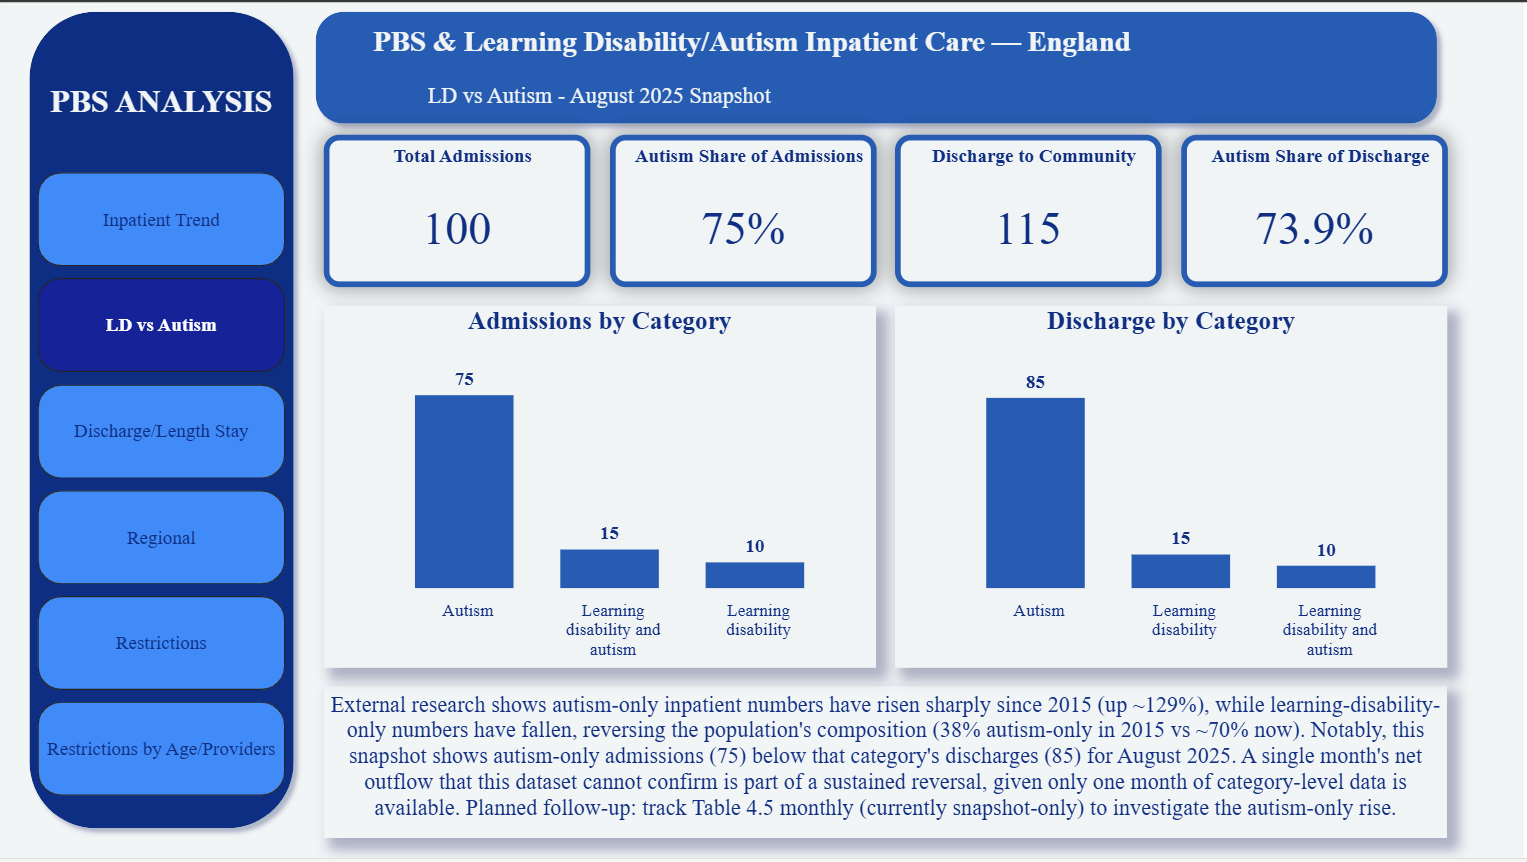

This screenshot's page, from the dashboard's own definition file:
{"tool":"powerbi","page":{"name":"LD vs Autism","canvas":[1280,720],"ordinal":1},"visuals":[{"type":"shape","box":[256,0,960,112],"z":0},{"type":"shape","box":[16,0,240,704],"z":1000},{"type":"textbox","box":[288,16,688,48],"z":2000},{"type":"cardVisual","title":"Total Admissions","fields":{"Data":["_Measures.Total Admissions (Category)"]},"box":[272,112,224,128],"z":3000},{"type":"cardVisual","title":"Autism Share of Admissions","fields":{"Data":["_Measures.Autism Share of Admissions"]},"box":[512,112,224,128],"z":4000},{"type":"cardVisual","title":"Discharge to Community","fields":{"Data":["_Measures.Discharges to Community by Category"]},"box":[752,112,224,128],"z":5000},{"type":"cardVisual","title":"Autism Share of Discharge","fields":{"Data":["_Measures.Autism Share of Community Discharges"]},"box":[992,112,224,128],"z":6000},{"type":"textbox","box":[304,64,400,32],"z":7000},{"type":"clusteredColumnChart","title":"Admissions by Category","fields":{"Category":["Fact_Category_Snapshot.Category"],"Y":["_Measures.Admissions by Category (Chart)"]},"box":[272,256,464,304],"z":8000},{"type":"clusteredColumnChart","title":"Discharge by Category","fields":{"Category":["Fact_Category_Snapshot.Category"],"Y":["_Measures.Discharges to Community by Category (Chart)"]},"box":[752,256,464,304],"z":9000},{"type":"textbox","box":[272,576,944,128],"z":10000},{"type":"pageNavigator","box":[32,144,208,528],"z":11000},{"type":"textbox","box":[32,64,208,64],"z":11001}]}

Visuals, with their boxes in screenshot pixels (x1, y1, x2, y2), scaled from the page's 1280x720 canvas onto the 1527x862 screenshot:
shape: <region>305, 0, 1451, 134</region>
shape: <region>19, 0, 305, 843</region>
textbox: <region>344, 19, 1164, 77</region>
"Total Admissions" cardVisual: <region>324, 134, 592, 287</region>
"Autism Share of Admissions" cardVisual: <region>611, 134, 878, 287</region>
"Discharge to Community" cardVisual: <region>897, 134, 1164, 287</region>
"Autism Share of Discharge" cardVisual: <region>1183, 134, 1451, 287</region>
textbox: <region>363, 77, 840, 115</region>
"Admissions by Category" clusteredColumnChart: <region>324, 306, 878, 670</region>
"Discharge by Category" clusteredColumnChart: <region>897, 306, 1451, 670</region>
textbox: <region>324, 690, 1451, 843</region>
pageNavigator: <region>38, 172, 286, 805</region>
textbox: <region>38, 77, 286, 153</region>
